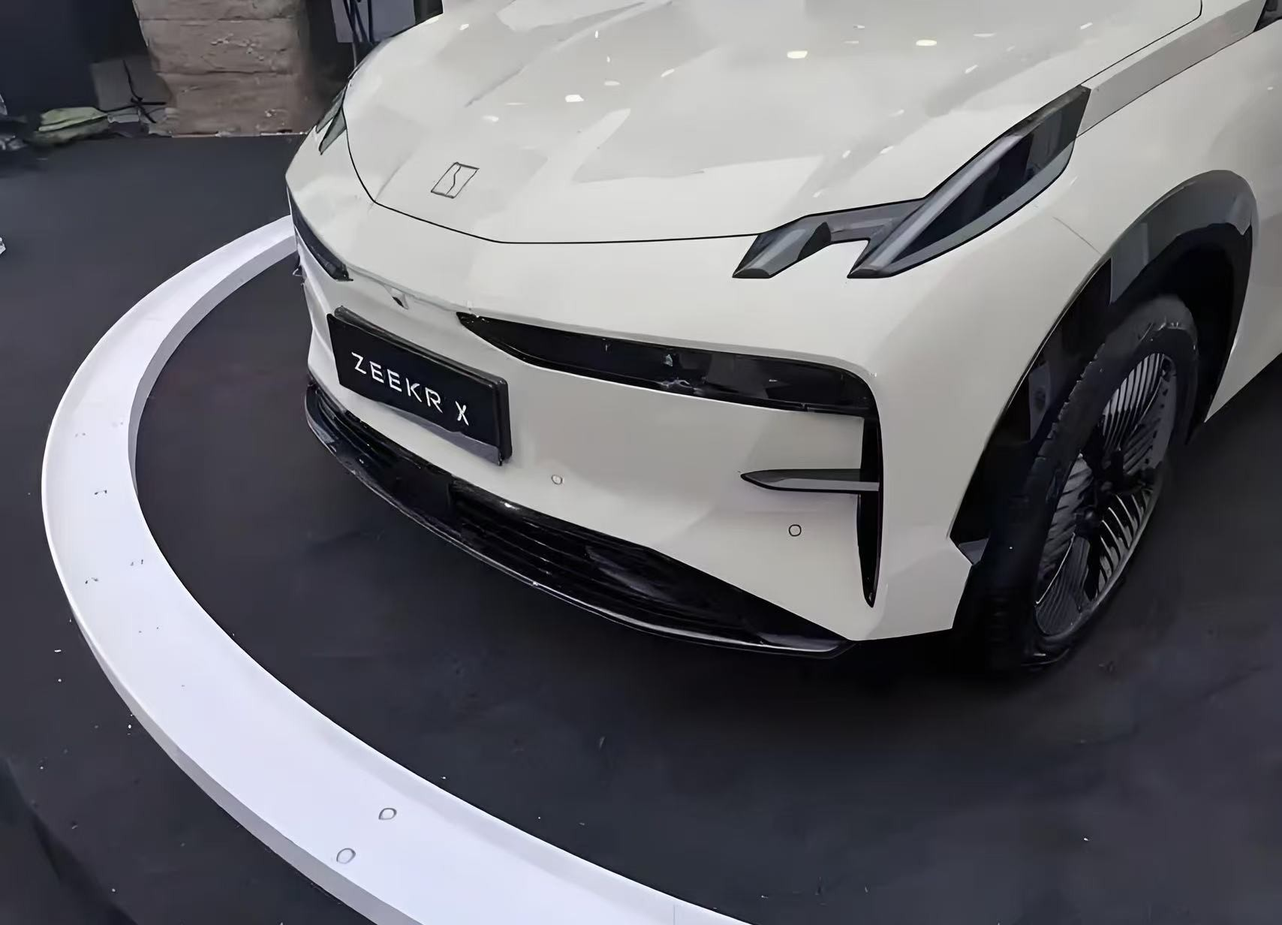ZEEKR: (432, 161, 479, 198)
